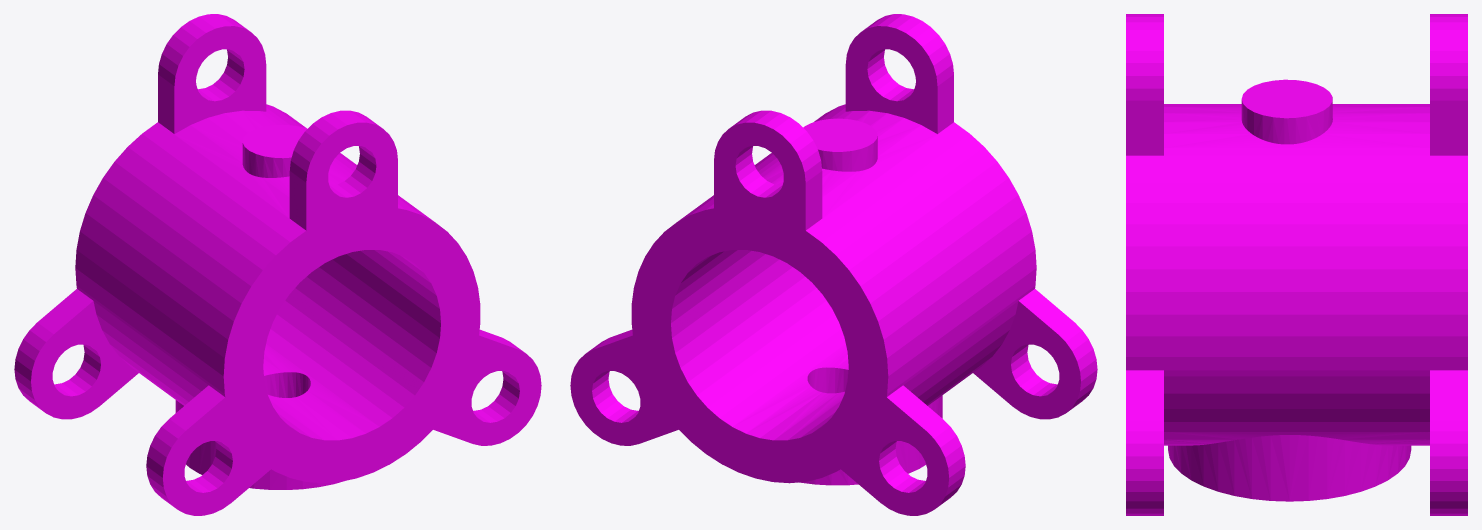
The model's file is valve_body.glb.
3 renders of one model, left to right at view 1: azimuth 30°, elevation 25°; view 2: azimuth 150°, elevation 25°; view 3: azimuth 270°, elevation 25°, orthographic. The views are drawn at different scales.
Visible parts, largest first — view 1: Node1; view 2: Node1; view 3: Node1.
Part boxes in pixels (bbox=[...]): Node1: bbox=[14, 14, 541, 515]; Node1: bbox=[570, 14, 1097, 515]; Node1: bbox=[1126, 14, 1467, 515].
Bounding box in the file's own units: 105 × 99.23 × 71.43.
